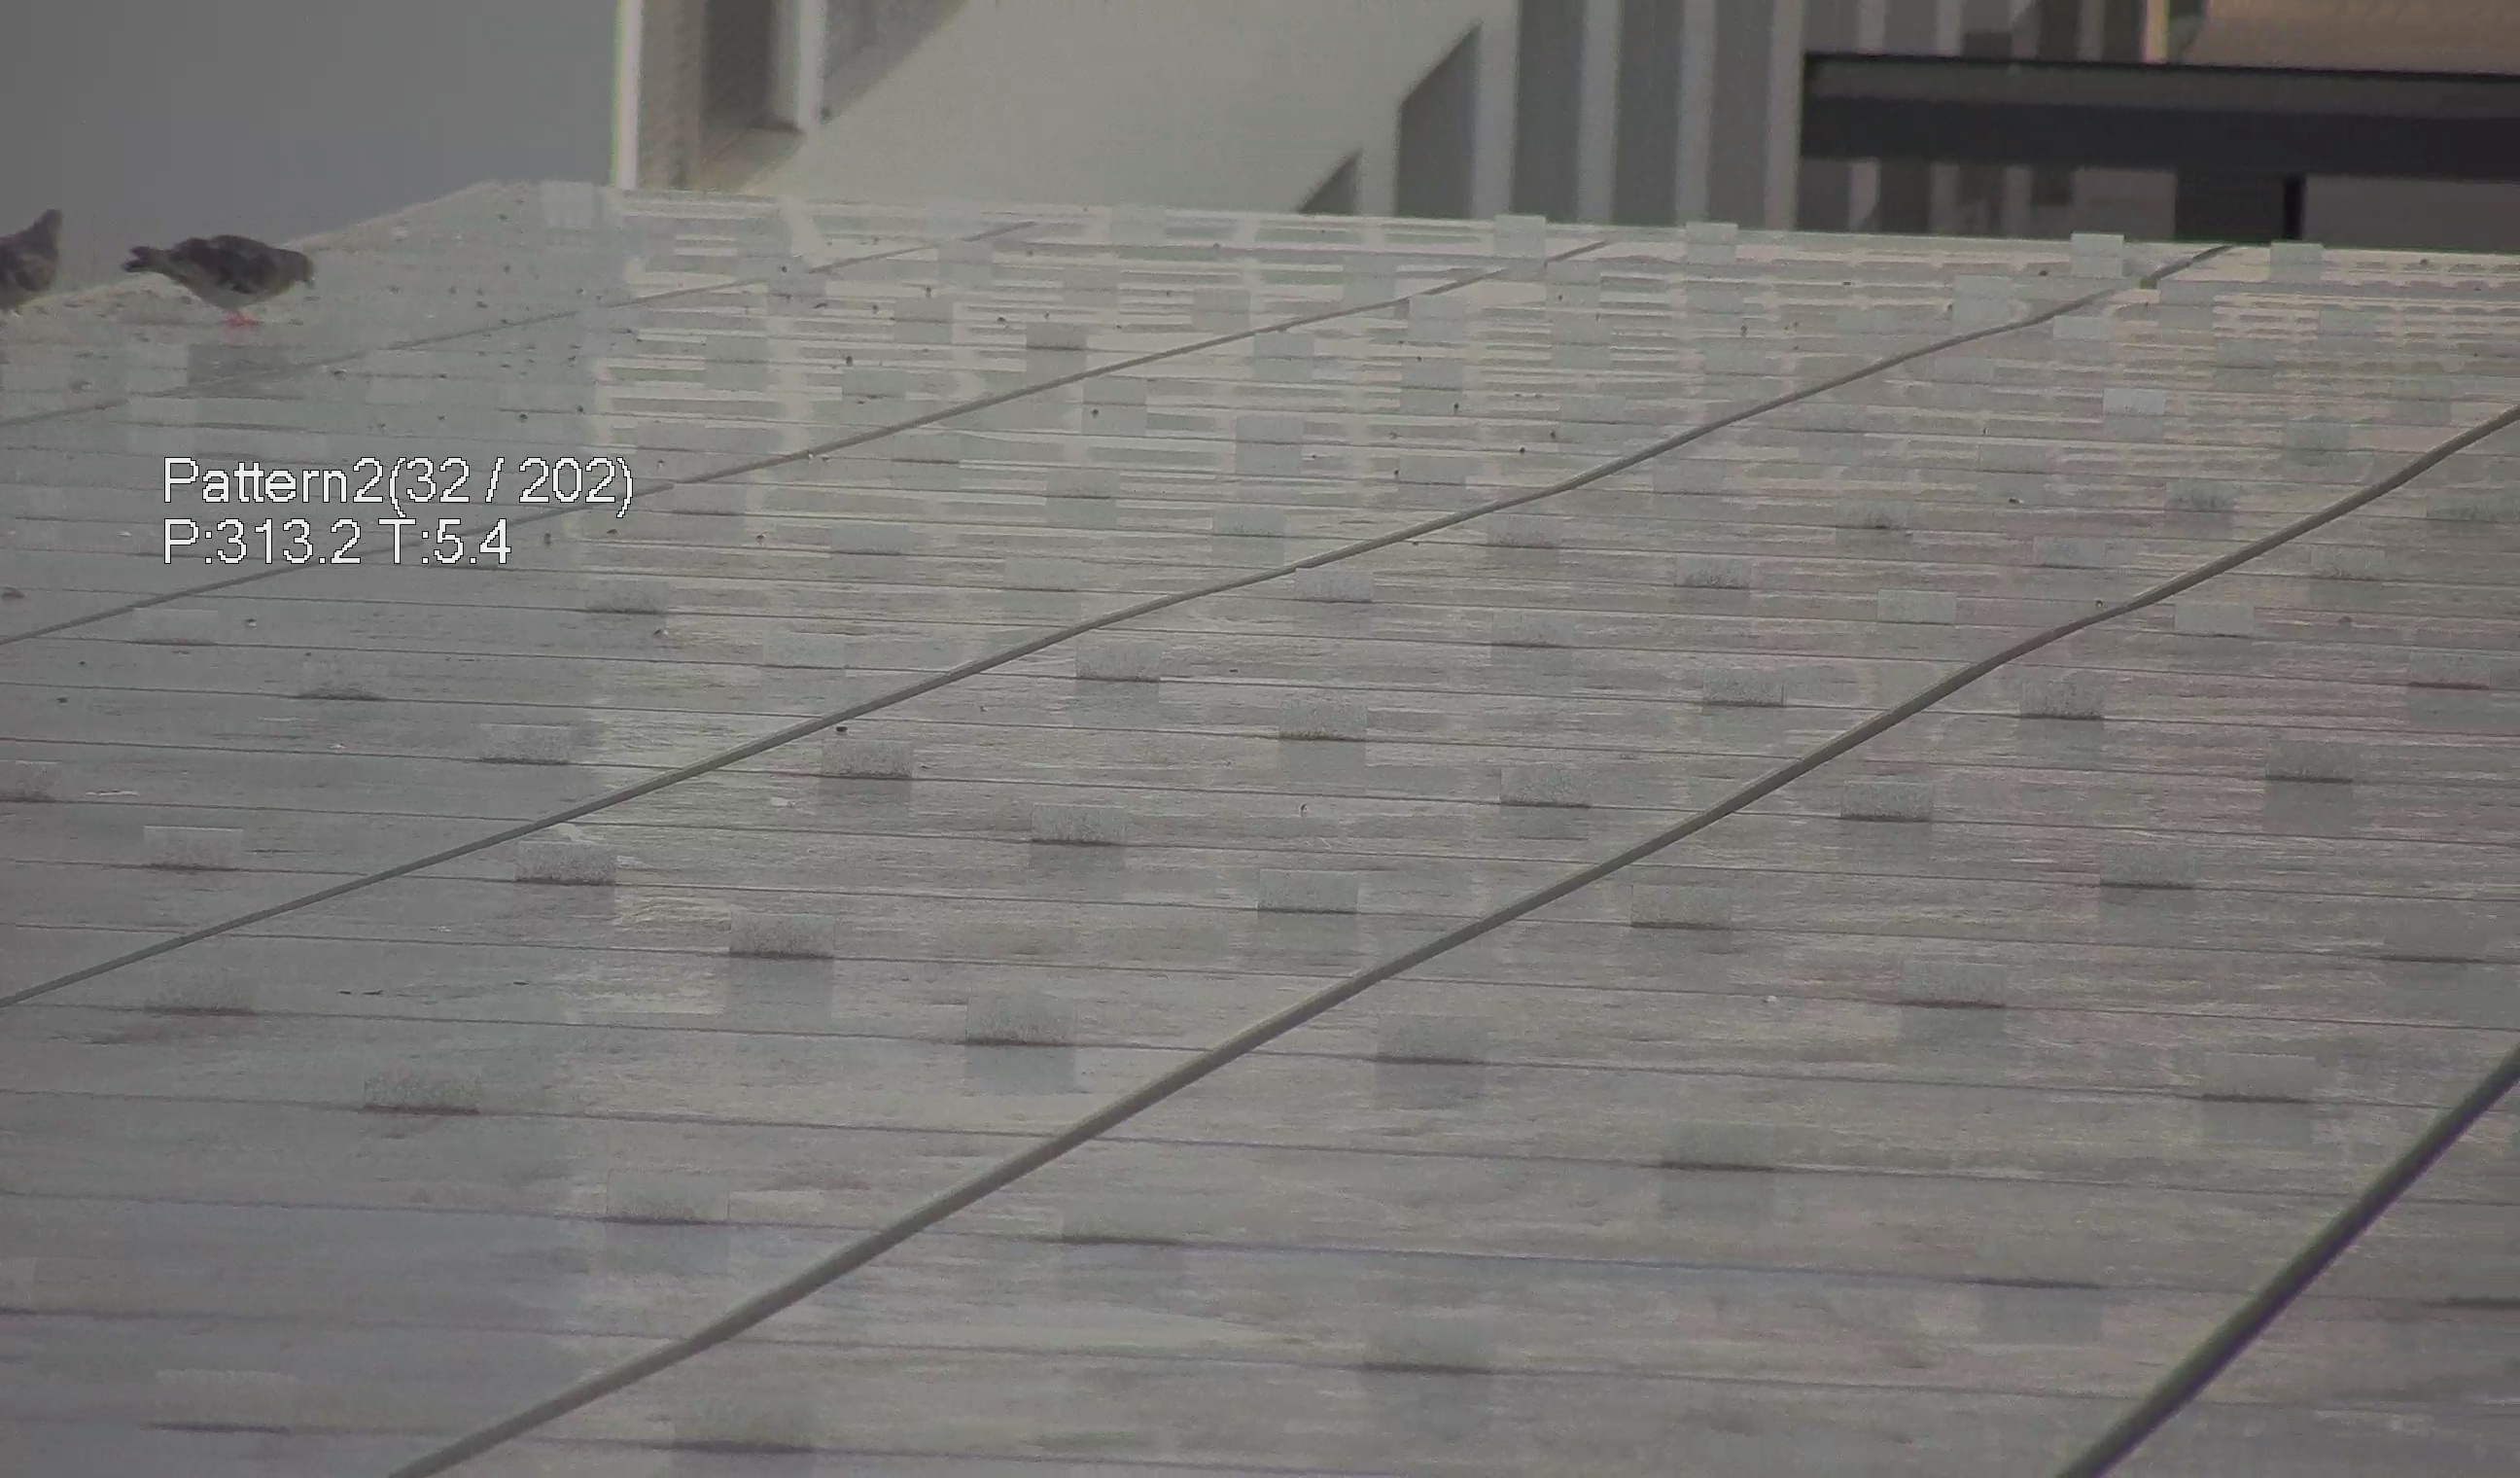Pigeon: (121, 211, 318, 327), (2, 197, 93, 310)
